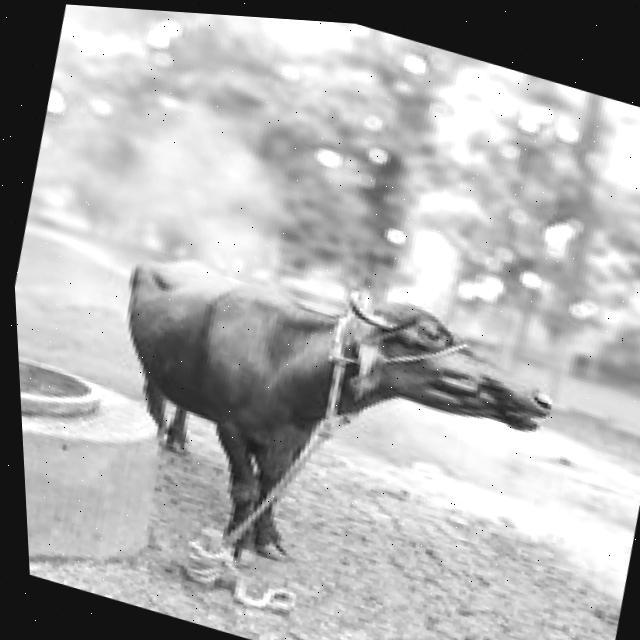Buffalo: (67, 213, 578, 640)
